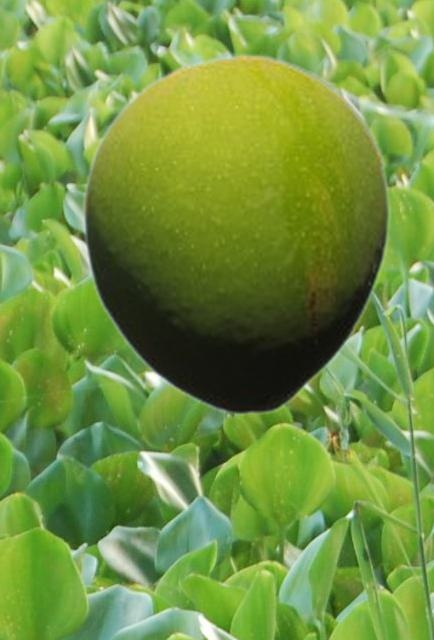green_mango: (81, 53, 391, 416)
